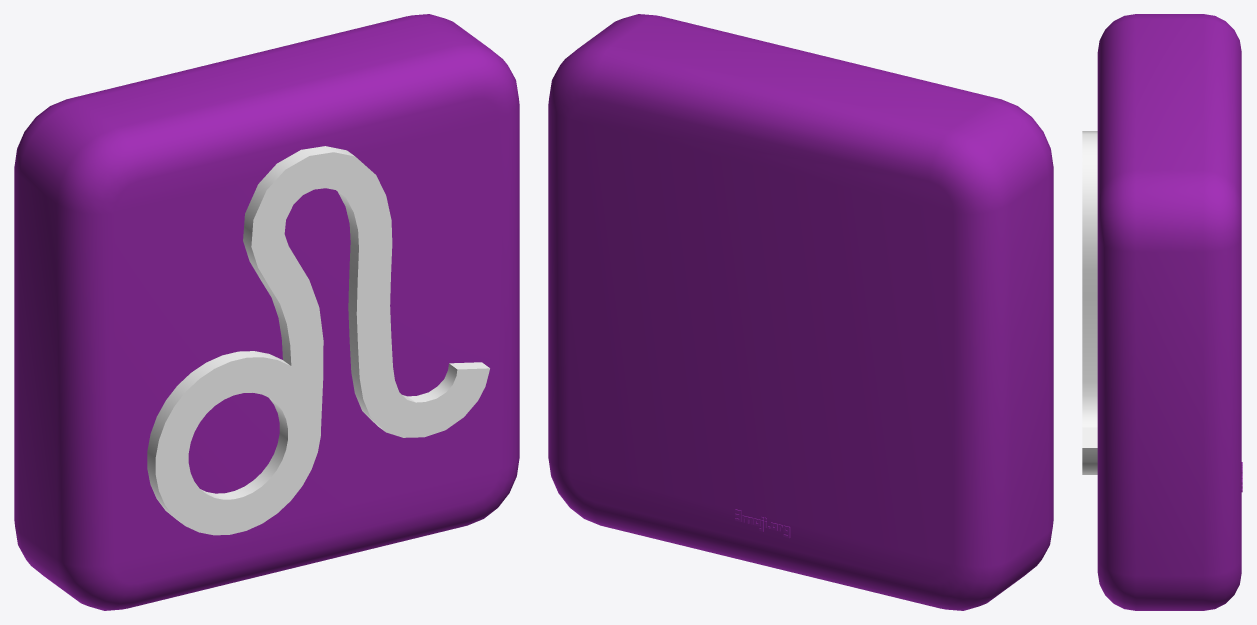
Rendered from leo.fbx.
3 renders of one model, left to right at view 1: azimuth 30°, elevation 25°; view 2: azimuth 150°, elevation 25°; view 3: azimuth 270°, elevation 25°, orthographic. The views are drawn at different scales.
Visible parts, largest first — view 1: Cube.6403; view 2: Cube.6403; view 3: Cube.6403.
Part boxes in pixels (x1=…): Cube.6403: x1=14, y1=14, x2=519, y2=610; Cube.6403: x1=548, y1=14, x2=1053, y2=610; Cube.6403: x1=1082, y1=14, x2=1242, y2=610.
Size of the model in its own units: 220 by 220 by 73.37.
1 material, 1 textured.
